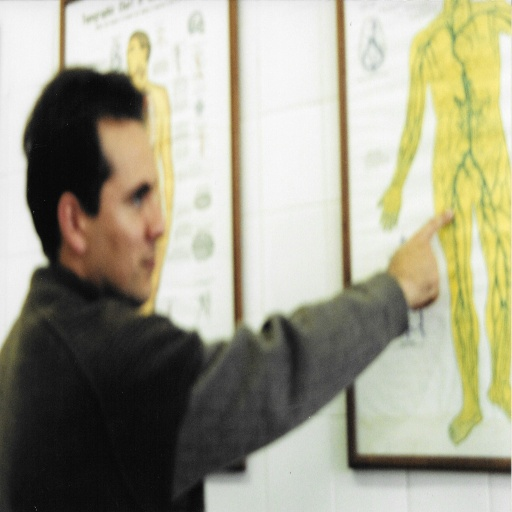hand: (382, 215, 459, 322), (376, 181, 401, 228), (160, 218, 171, 255)
